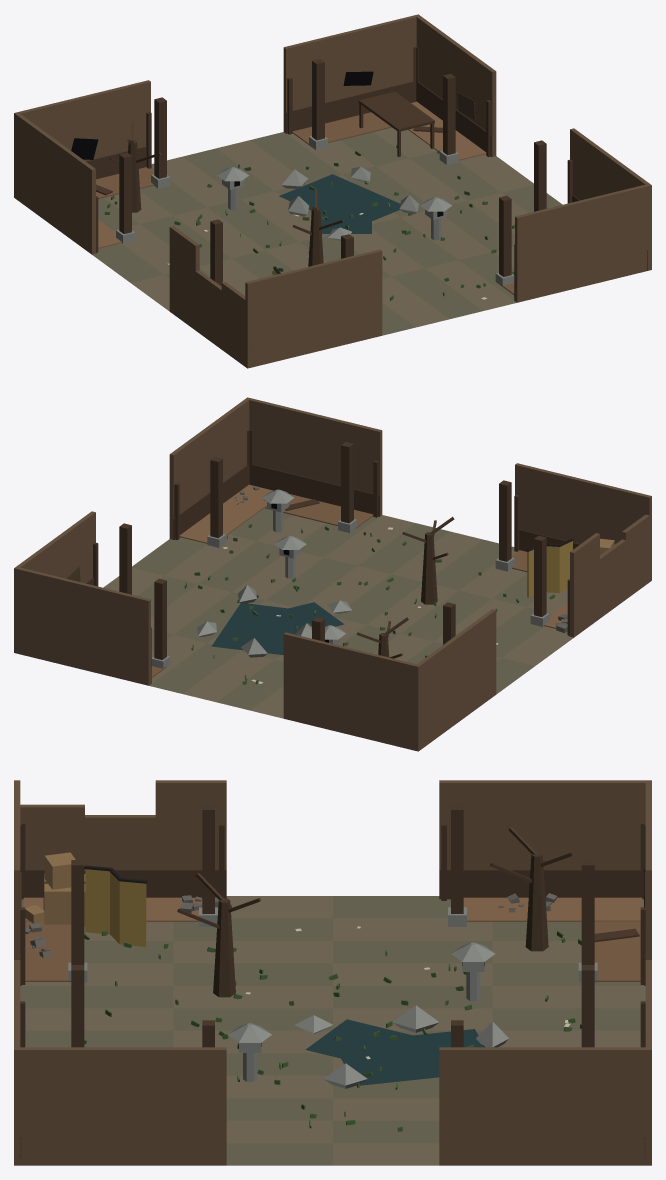
3 renders of one model, top to bottom at view 1: azimuth 30°, elevation 25°; view 2: azimuth 150°, elevation 25°; view 3: azimuth 270°, elevation 25°, orthographic. The views are drawn at different scales.
Visible parts, largest first — view 1: G_B, G_B_Deco; view 2: G_B, G_B_Deco; view 3: G_B, G_B_Deco.
Boxes of the visible parts, bbox=[...] form: G_B: bbox=[14, 14, 651, 368]; G_B_Deco: bbox=[16, 46, 647, 359]; G_B: bbox=[14, 397, 651, 751]; G_B_Deco: bbox=[18, 429, 579, 684]; G_B: bbox=[14, 780, 651, 1165]; G_B_Deco: bbox=[20, 823, 645, 1164].
Size of the model in its own units: 2 by 2 by 0.4396.
